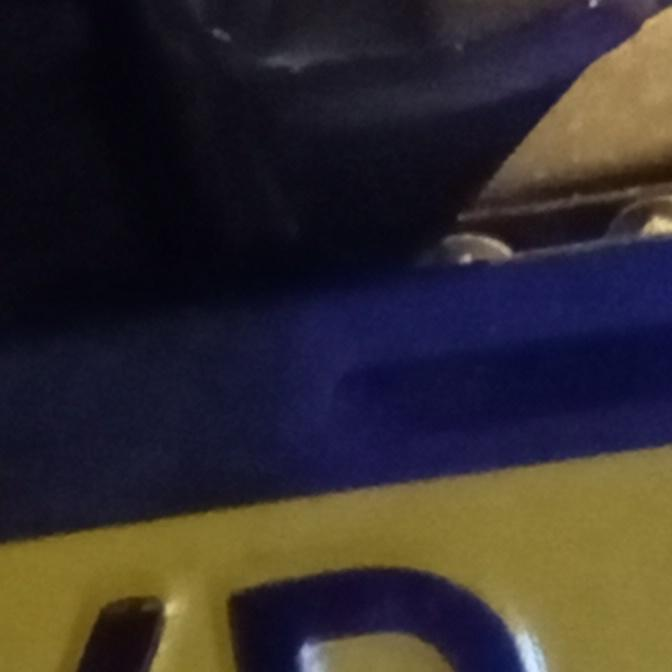plates: (0, 245, 672, 672)
